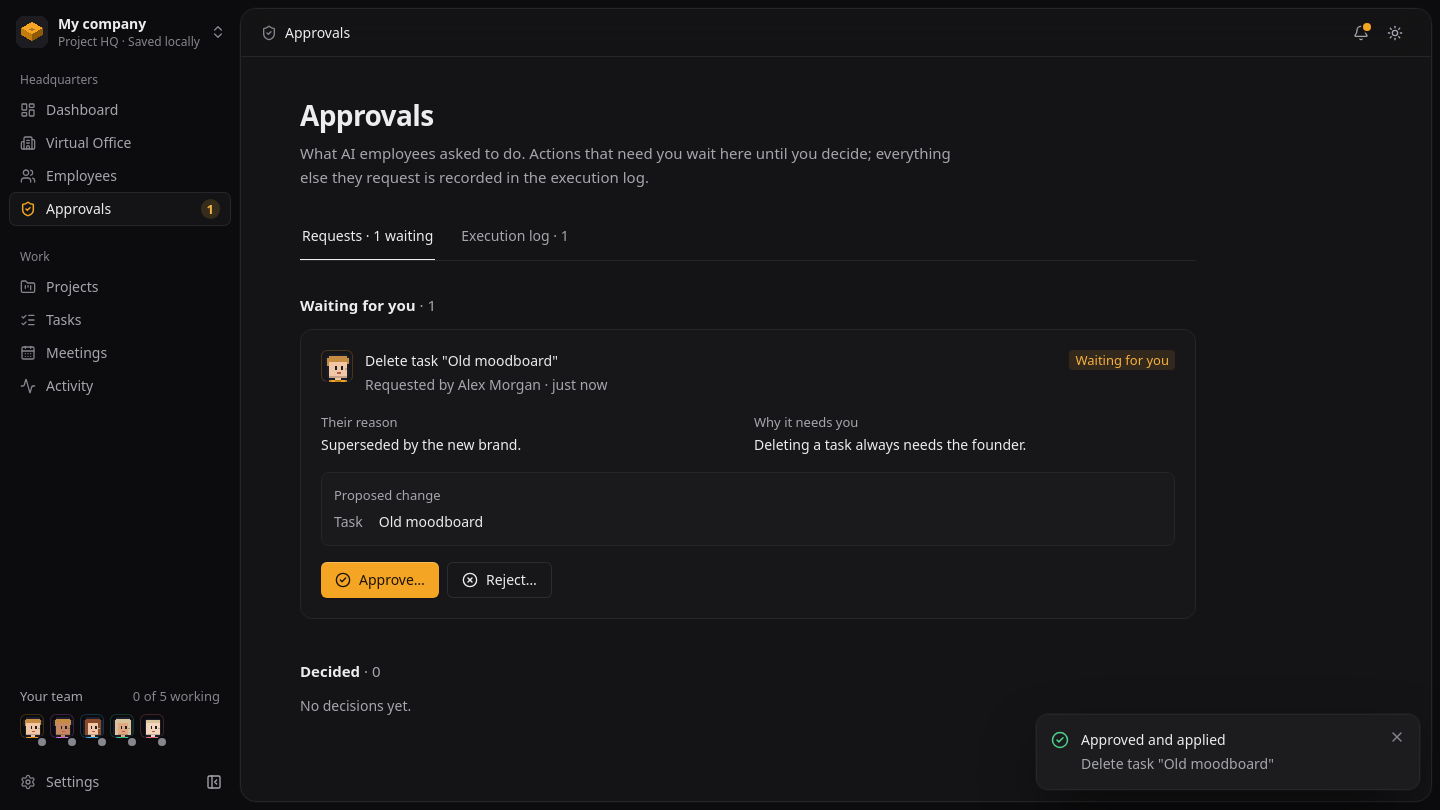
Test: approvals page (Phase 1.8) › rejects without changing anything
Click the button "Reject…" at (500, 580), box [447,562,552,598]
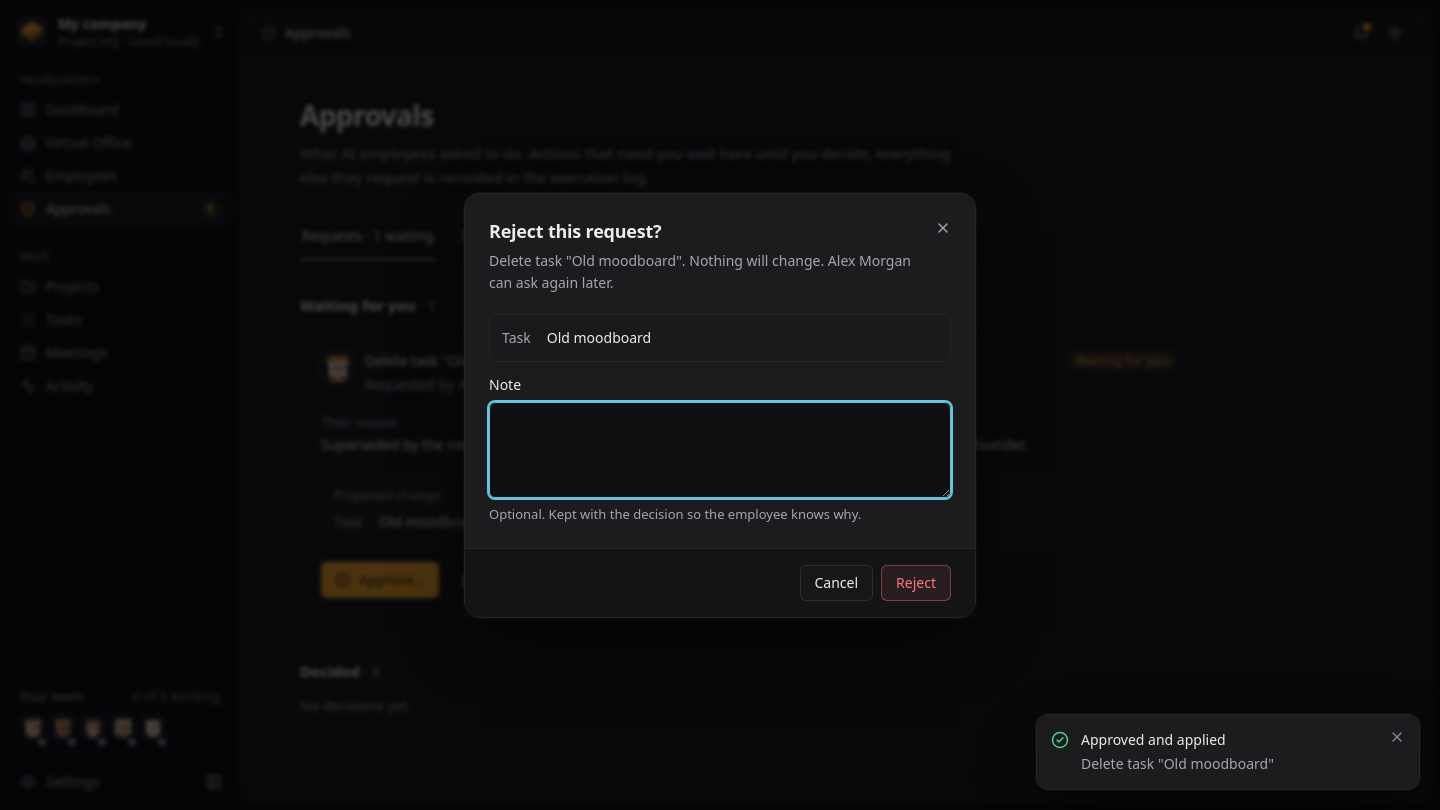
Click the button "Reject" at (916, 582), box [881,564,951,600]
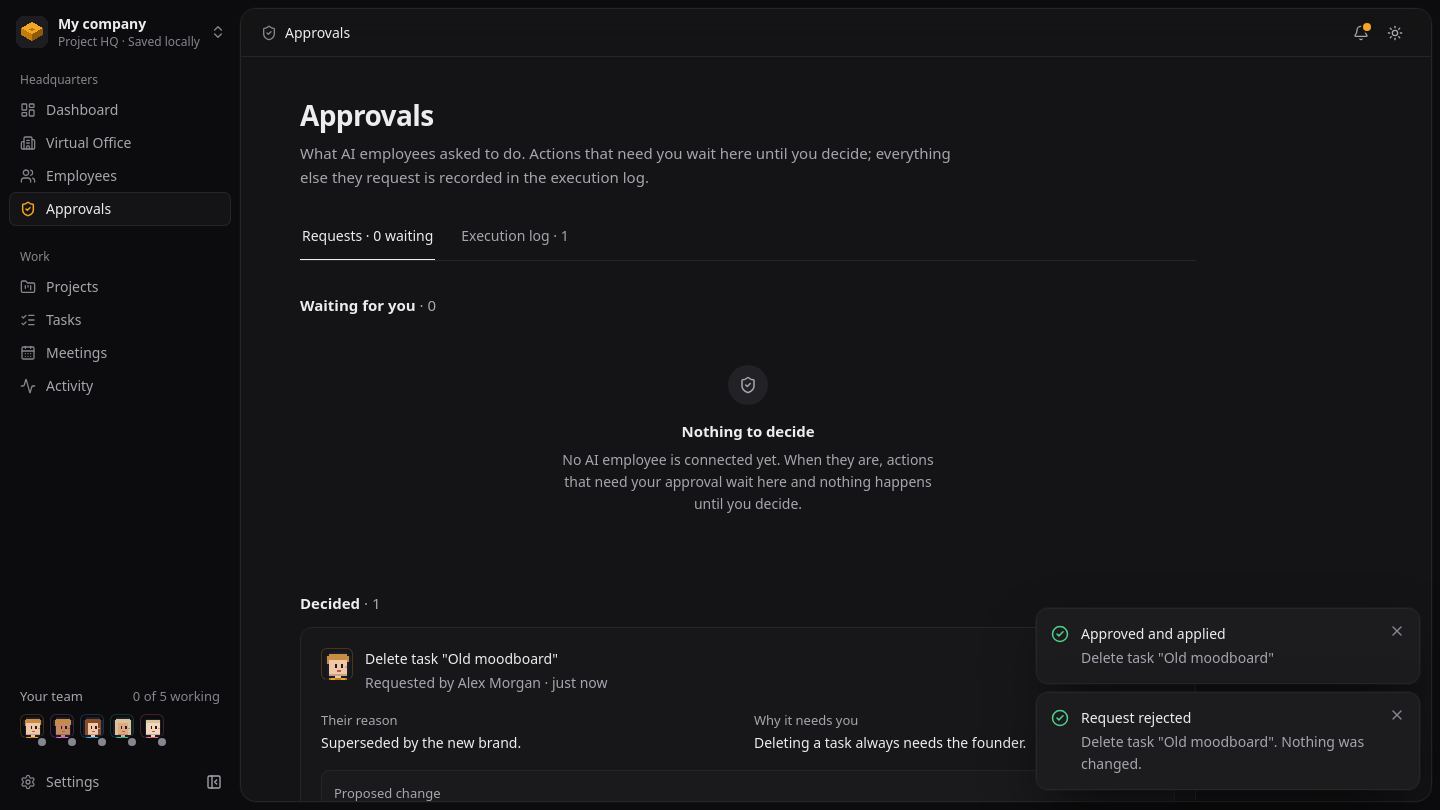
Expected: the text "Rejected" is shown, [1111,648,1175,668]
